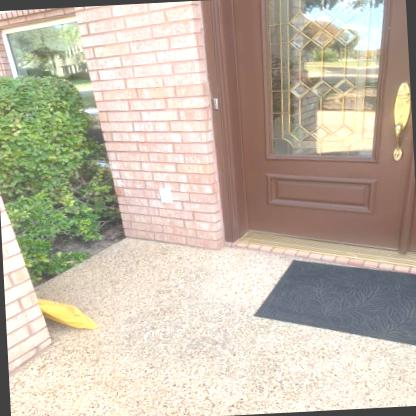envelope: (30, 292, 102, 335)
